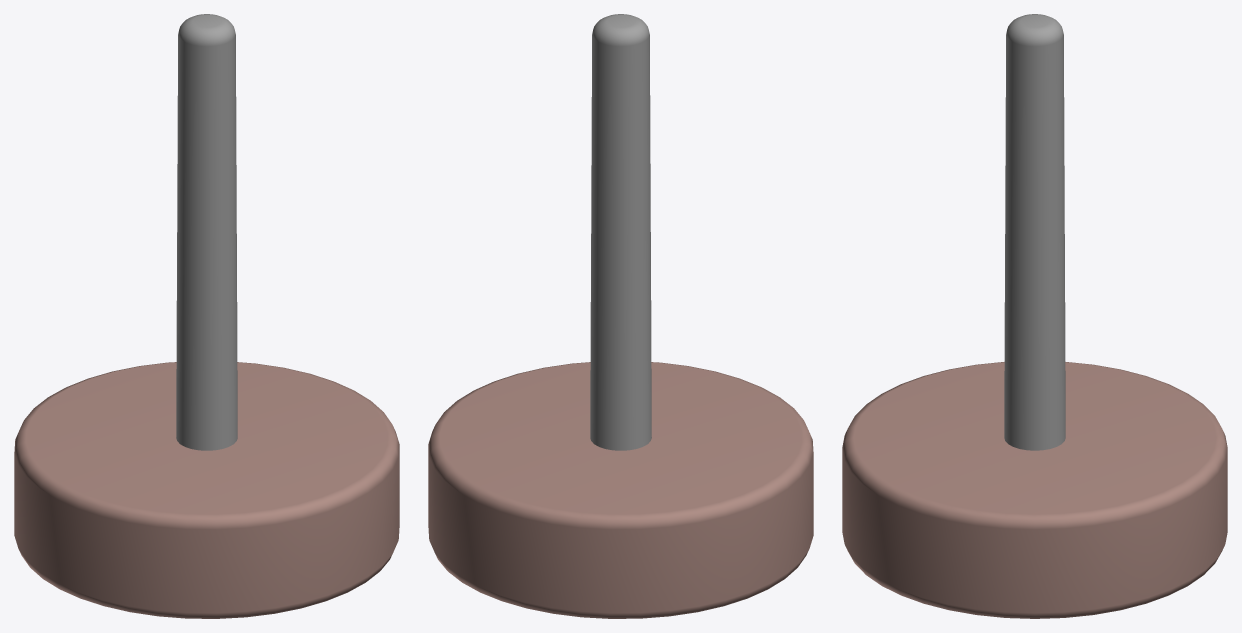
Rendered from Public_19_Big_Thread_Stand_1.glb.
The picture shows the model from 3 angles, left to right: view 1: azimuth 30°, elevation 25°; view 2: azimuth 150°, elevation 25°; view 3: azimuth 270°, elevation 25°; orthographic projection.
Visible parts, largest first — view 1: Public_19_Big_Thread_Stand_1; view 2: Public_19_Big_Thread_Stand_1; view 3: Public_19_Big_Thread_Stand_1.
Part boxes in pixels (left/top/right/bottom): Public_19_Big_Thread_Stand_1: left=14, top=14, right=399, bottom=618; Public_19_Big_Thread_Stand_1: left=428, top=14, right=813, bottom=618; Public_19_Big_Thread_Stand_1: left=842, top=14, right=1227, bottom=618.
Bounding box in the file's own units: 1.64 × 2.44 × 1.64.
1 material, 1 textured.
